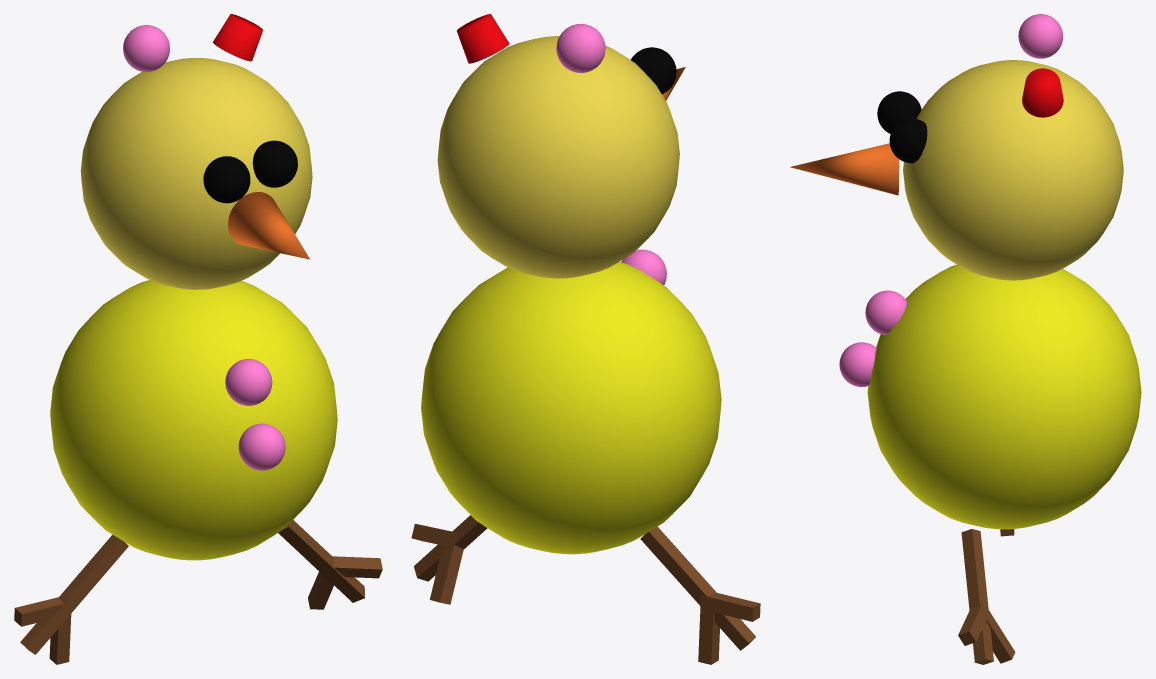
3 renders of one model, left to right at view 1: azimuth 30°, elevation 25°; view 2: azimuth 150°, elevation 25°; view 3: azimuth 270°, elevation 25°, orthographic. The views are drawn at different scales.
Parts seen in each view (by area): view 1: 球, 球.001, 立方体, 立方体.004, 円錐, 球.002, 球.004, 球.005, 球.006, 球.003, 円柱; view 2: 球, 球.001, 立方体, 立方体.004, 球.006, 円柱, 球.002, 球.005; view 3: 球, 球.001, 立方体.004, 円錐, 円柱, 球.006, 球.003, 球.005, 球.004, 球.002.
Part boxes in pixels (<box>): 球: <box>50,280,337,560</box>; 球.001: <box>80,58,312,289</box>; 立方体: <box>14,534,128,664</box>; 立方体.004: <box>278,520,382,609</box>; 円錐: <box>228,192,309,259</box>; 球.002: <box>203,156,250,203</box>; 球.004: <box>238,423,285,470</box>; 球.005: <box>225,359,272,405</box>; 球.006: <box>123,25,169,71</box>; 球.003: <box>252,140,297,187</box>; 円柱: <box>213,14,263,61</box>; 球: <box>421,261,721,554</box>; 球.001: <box>437,36,679,278</box>; 立方体: <box>640,526,760,664</box>; 立方体.004: <box>411,515,487,604</box>; 球.006: <box>556,24,605,72</box>; 円柱: <box>457,14,509,63</box>; 球.002: <box>631,47,676,94</box>; 球.005: <box>621,249,666,285</box>; 球: <box>867,264,1141,529</box>; 球.001: <box>903,60,1123,280</box>; 立方体.004: <box>958,529,1015,664</box>; 円錐: <box>790,143,899,195</box>; 円柱: <box>1022,68,1063,117</box>; 球.006: <box>1018,14,1063,58</box>; 球.003: <box>889,118,927,163</box>; 球.005: <box>865,290,907,334</box>; 球.004: <box>839,342,876,386</box>; 球.002: <box>877,91,921,133</box>.
Size of the model in its own units: 1.01 by 1.69 by 0.9379.
